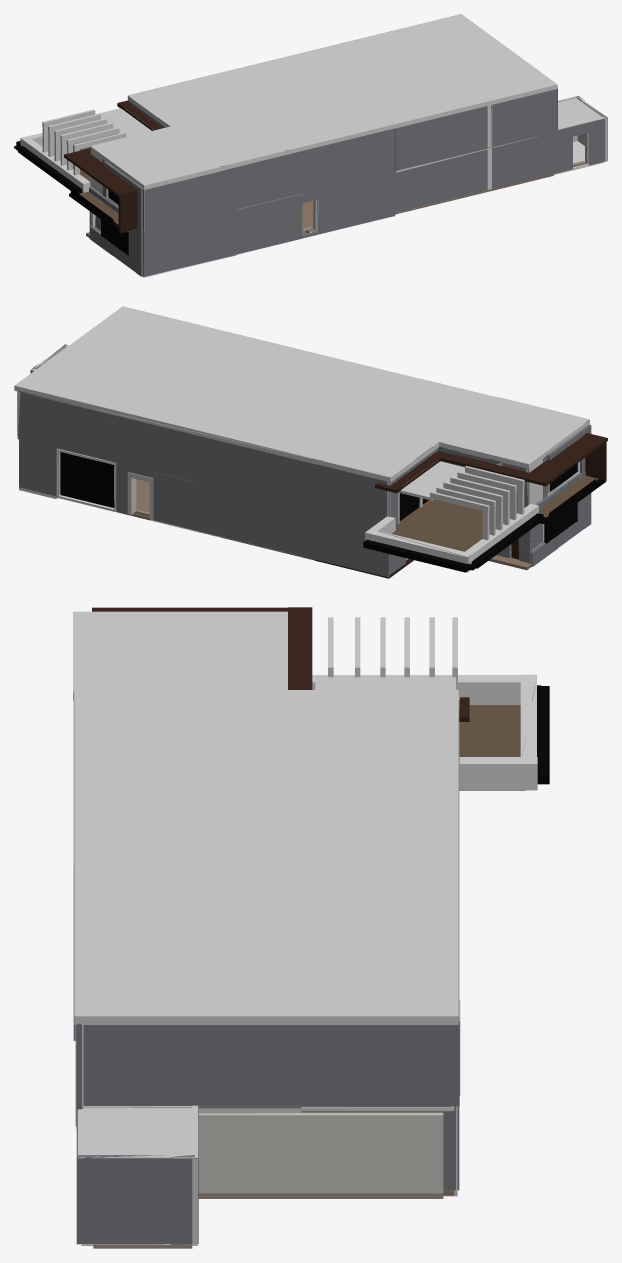
Rendered from modern-house.zfix-v14.lod0.glb.
3 views of the same model, one above another, from view 1: azimuth 30°, elevation 25°; view 2: azimuth 150°, elevation 25°; view 3: azimuth 270°, elevation 25° (orthographic). The views are drawn at different scales.
Parts seen in each view (by area): view 1: Object_2; view 2: Object_2; view 3: Object_2.
Part boxes in pixels (x1,y1,x2,y2): Object_2: (14, 14, 607, 277); Object_2: (14, 306, 607, 578); Object_2: (73, 607, 549, 1248).
Bounding box in the file's own units: 35.75 × 6.56 × 15.22.
